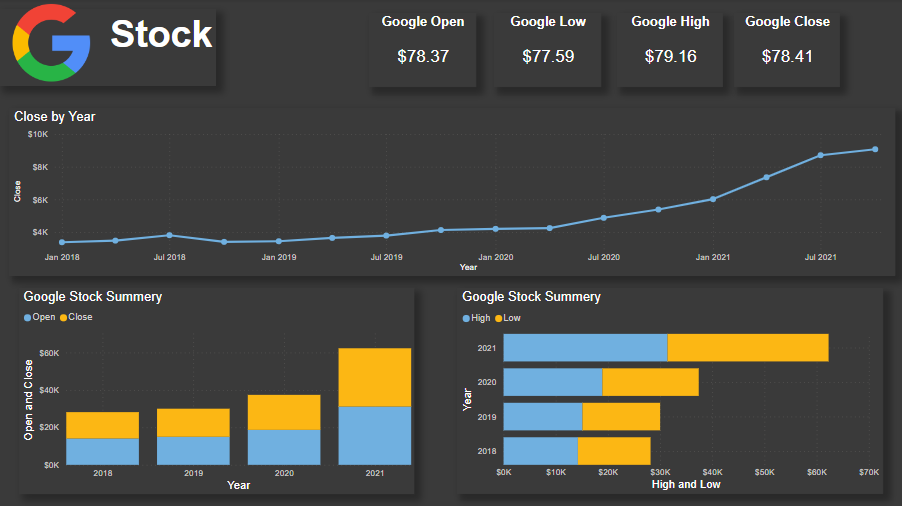

Layout of this report page (visuals, bound fields, positions):
{"tool":"powerbi","page":{"name":"Page 1","canvas":[1280,720],"ordinal":0},"visuals":[{"type":"lineChart","title":"Close by Year","fields":{"Y":["Sum(yahoo_finance_data.Adj Close)"],"Category":["yahoo_finance_data.Date.Variation.Date Hierarchy.Year","yahoo_finance_data.Date.Variation.Date Hierarchy.Quarter"]},"box":[14.2,154.5,1255.7,238.1],"z":0},{"type":"textbox","box":[0,14.2,307.6,109.1],"z":1000},{"type":"card","title":"Google Open","fields":{"Values":["Avg(yahoo_finance_data.Open)"]},"box":[524.4,19.8,151.7,104.9],"z":2000},{"type":"card","title":"Google Low","fields":{"Values":["Avg(yahoo_finance_data.Low)"]},"box":[701.6,19.8,151.7,104.9],"z":3000},{"type":"card","title":"Google High","fields":{"Values":["Avg(yahoo_finance_data.High)"]},"box":[875.9,19.8,150.2,104.9],"z":4000},{"type":"card","title":"Google Close","fields":{"Values":["Avg(yahoo_finance_data.Adj Close)"]},"box":[1041.7,19.8,150.2,104.9],"z":5000},{"type":"columnChart","title":"Google Stock Summery","fields":{"Y":["Sum(yahoo_finance_data.Open)","Sum(yahoo_finance_data.Adj Close)"],"Category":["yahoo_finance_data.Date.Variation.Date Hierarchy.Year"]},"box":[28.3,409.6,559.8,292],"z":6000},{"type":"barChart","title":"Google Stock Summery","fields":{"Category":["yahoo_finance_data.Date.Variation.Date Hierarchy.Year"],"Y":["Sum(yahoo_finance_data.High)","Sum(yahoo_finance_data.Low)"]},"box":[649.1,409.6,603.8,292],"z":7000},{"type":"image","box":[14.2,0,120.5,123.3],"z":8000}]}

Visuals, with their boxes in screenshot pixels (x1, y1, x2, y2), scaled from the page's 1280x720 canvas onto the 902x506 screenshot:
"Close by Year" lineChart: (left=10, top=109, right=895, bottom=276)
textbox: (left=0, top=10, right=217, bottom=87)
"Google Open" card: (left=370, top=14, right=476, bottom=88)
"Google Low" card: (left=494, top=14, right=601, bottom=88)
"Google High" card: (left=617, top=14, right=723, bottom=88)
"Google Close" card: (left=734, top=14, right=840, bottom=88)
"Google Stock Summery" columnChart: (left=20, top=288, right=414, bottom=493)
"Google Stock Summery" barChart: (left=457, top=288, right=883, bottom=493)
image: (left=10, top=0, right=95, bottom=87)
